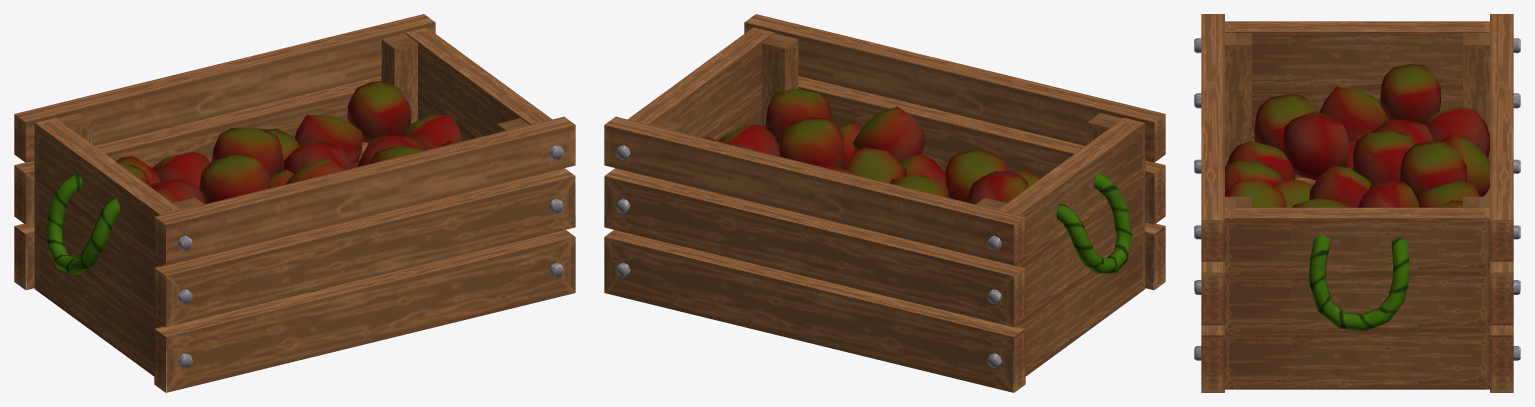
File: FarmCrate_Apple.gltf
3 views of the same model, side by side, from view 1: azimuth 30°, elevation 25°; view 2: azimuth 150°, elevation 25°; view 3: azimuth 270°, elevation 25° (orthographic). The views are drawn at different scales.
Visible parts, largest first — view 1: FarmCrate_Apple; view 2: FarmCrate_Apple; view 3: FarmCrate_Apple.
Part boxes in pixels (x1,y1,x2,y2): FarmCrate_Apple: [14, 14, 575, 392]; FarmCrate_Apple: [604, 14, 1165, 392]; FarmCrate_Apple: [1194, 14, 1520, 392].
Size of the model in its own units: 0.7138 by 0.2438 by 0.4142.
Materials: 3 (3 with a texture image).
